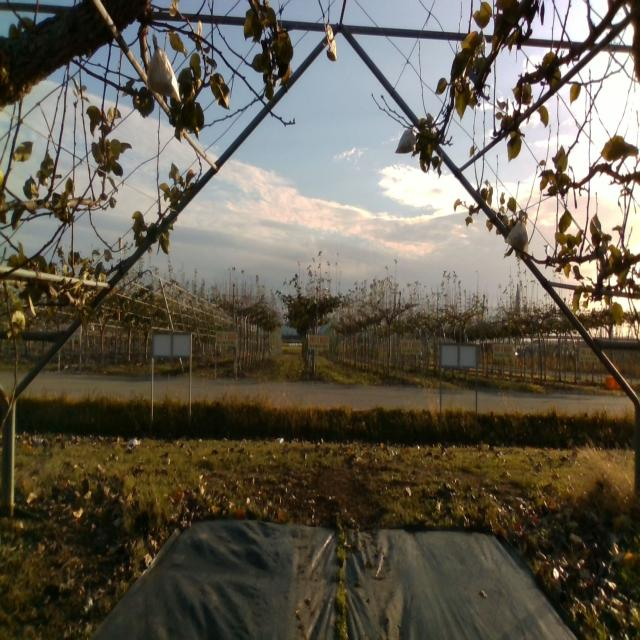pearbags: (147, 27, 179, 102), (504, 215, 529, 254), (394, 122, 416, 156)
